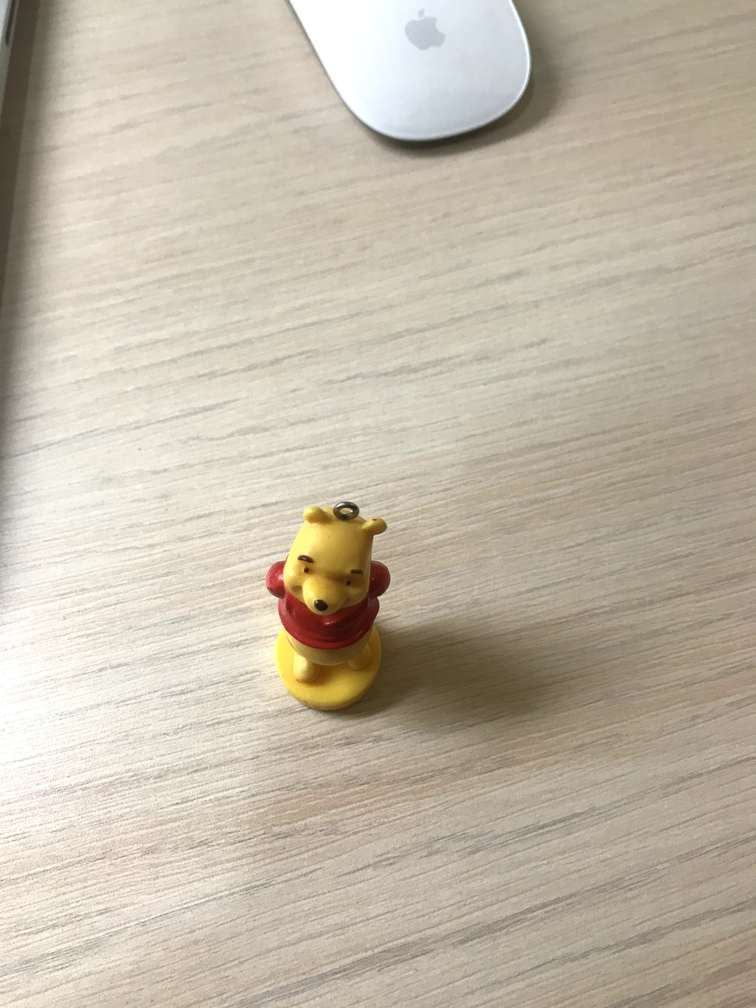Winnie: (270, 500, 405, 621)
